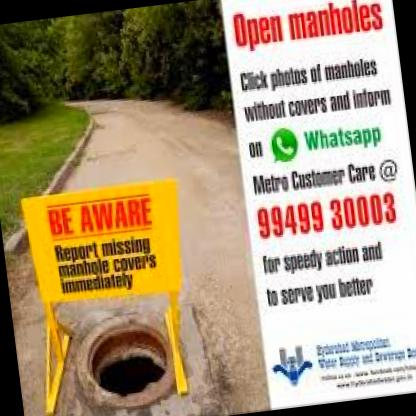manholes: (53, 279, 189, 416)
